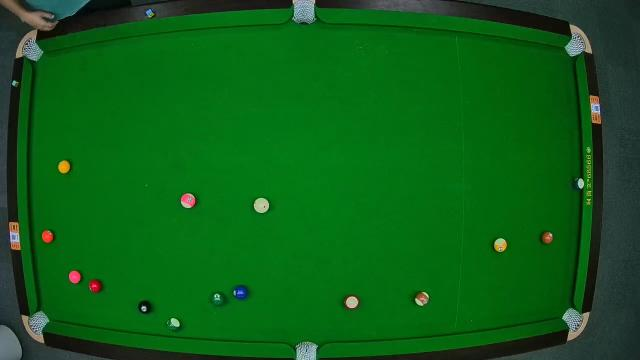bag1: (22, 39, 40, 59)
bag2: (294, 0, 316, 26)
bag3: (567, 34, 587, 54)
bag4: (27, 310, 49, 332)
bag5: (294, 340, 320, 360)
bag6: (562, 308, 584, 332)
ball0: (253, 197, 270, 214)
ball1: (58, 160, 70, 174)
ball10: (574, 177, 586, 191)
ball11: (344, 294, 360, 310)
ball12: (182, 192, 198, 208)
ball14: (165, 316, 181, 332)
ball15: (414, 290, 430, 306)
ball2: (233, 284, 249, 300)
ball3: (88, 278, 100, 292)
ball4: (68, 271, 82, 285)
ball5: (42, 229, 54, 243)
ball6: (210, 291, 224, 305)
ball7: (542, 231, 554, 244)
ball8: (137, 300, 153, 314)
ball9: (494, 238, 508, 253)
